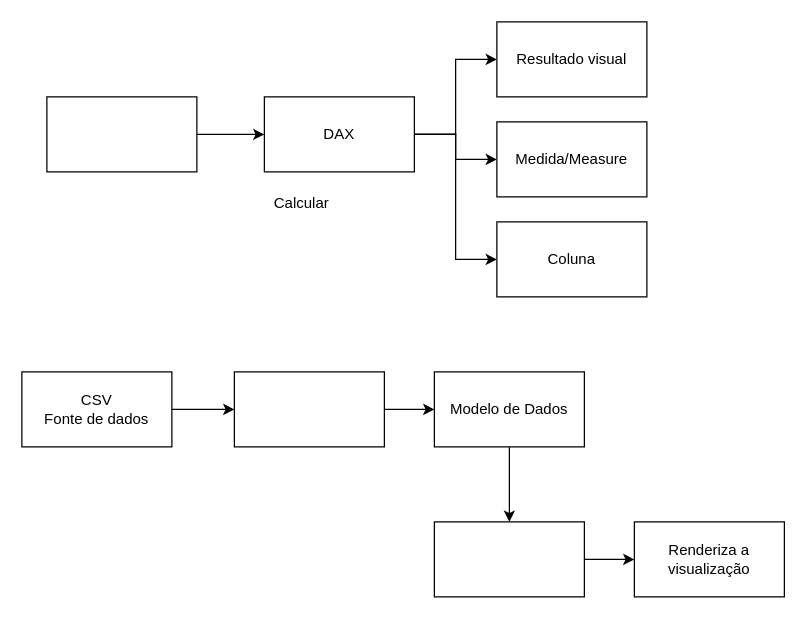
Image size: 806x619. Some labels were removed from this diagram. Each missing label, with the box of its shape:
Comandos + Configuração: (46, 96, 197, 172)
Cálculos do Dax: (433, 521, 584, 597)
Power Query: (233, 371, 384, 447)
